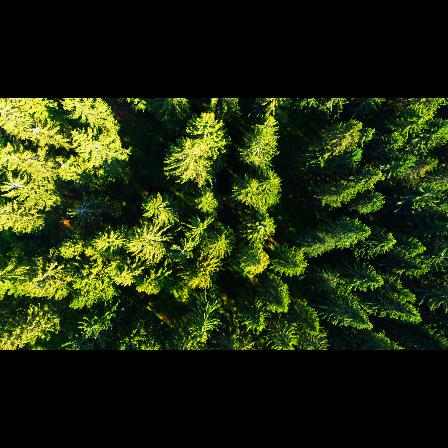Sick: (63, 189, 97, 228), (172, 239, 193, 261)
